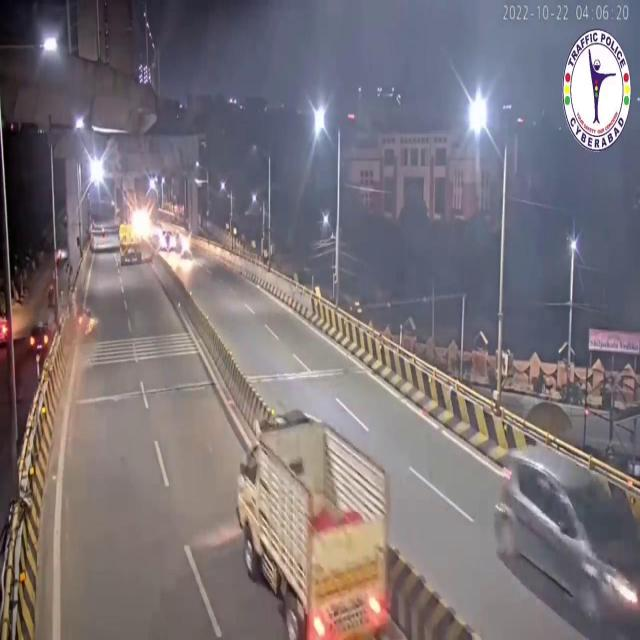accident: (72, 305, 100, 338)
